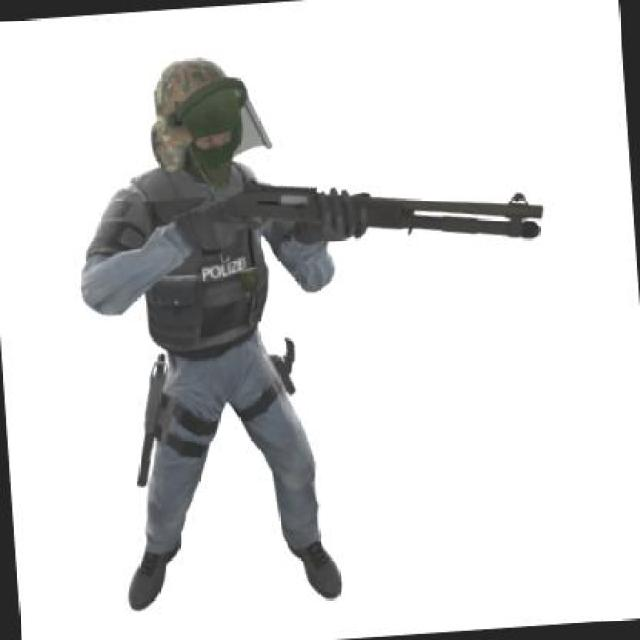MIL_Pax: (60, 48, 360, 614)
